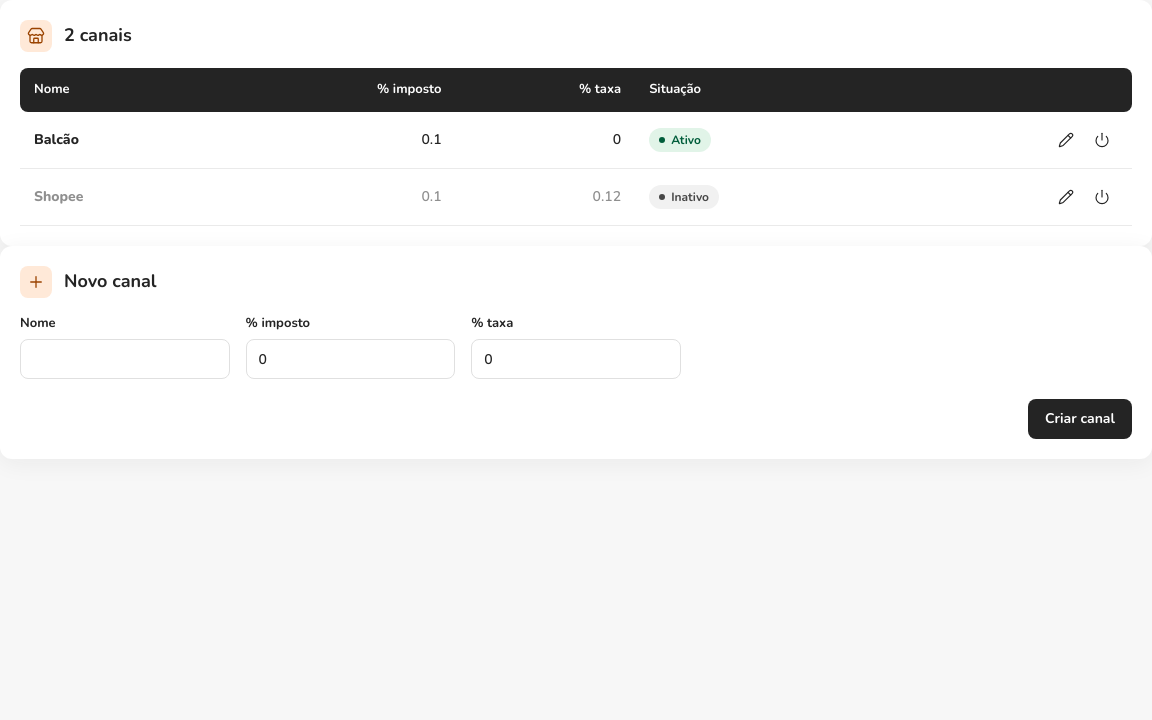
Test: Sales channels page › admin creates and toggles a channel without reloading
Expected: the text "Balcão" is shown, [20,112,218,168]
Type "Loja física" into the field labelled "Nome".
click(125, 359); type("Loja física")  # box [20,339,230,379]
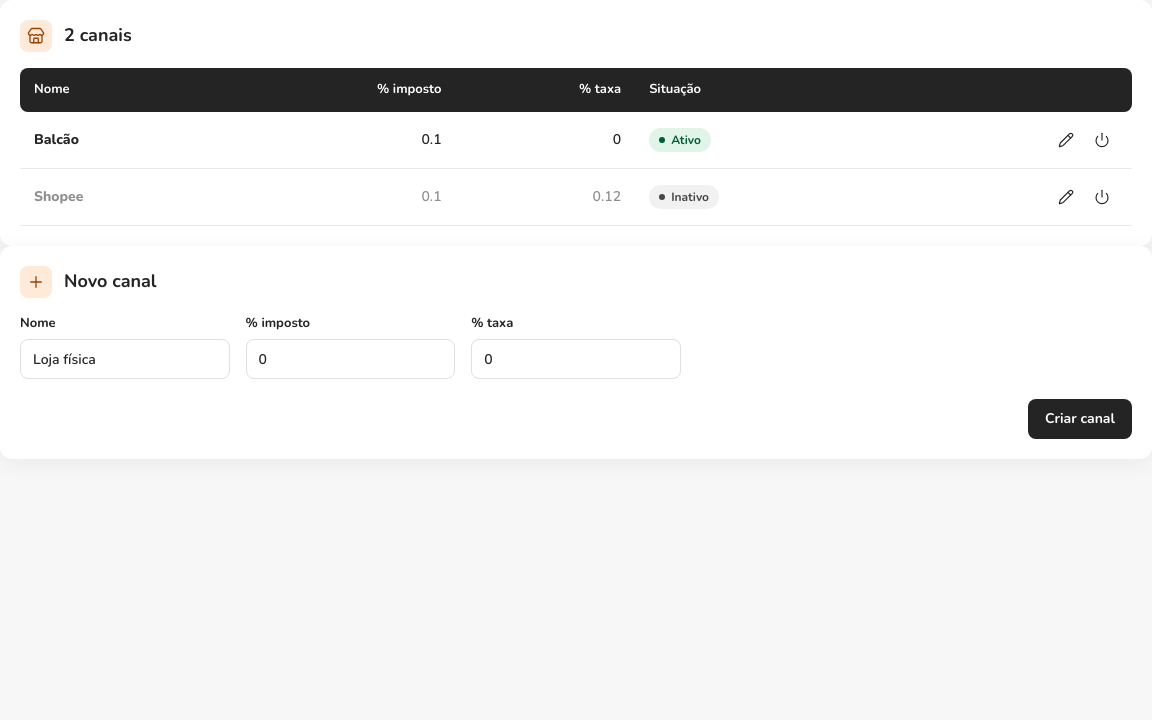
Replace the text in the field labelled "% imposto" with "0.05" at (350, 359), box [246,339,455,379]
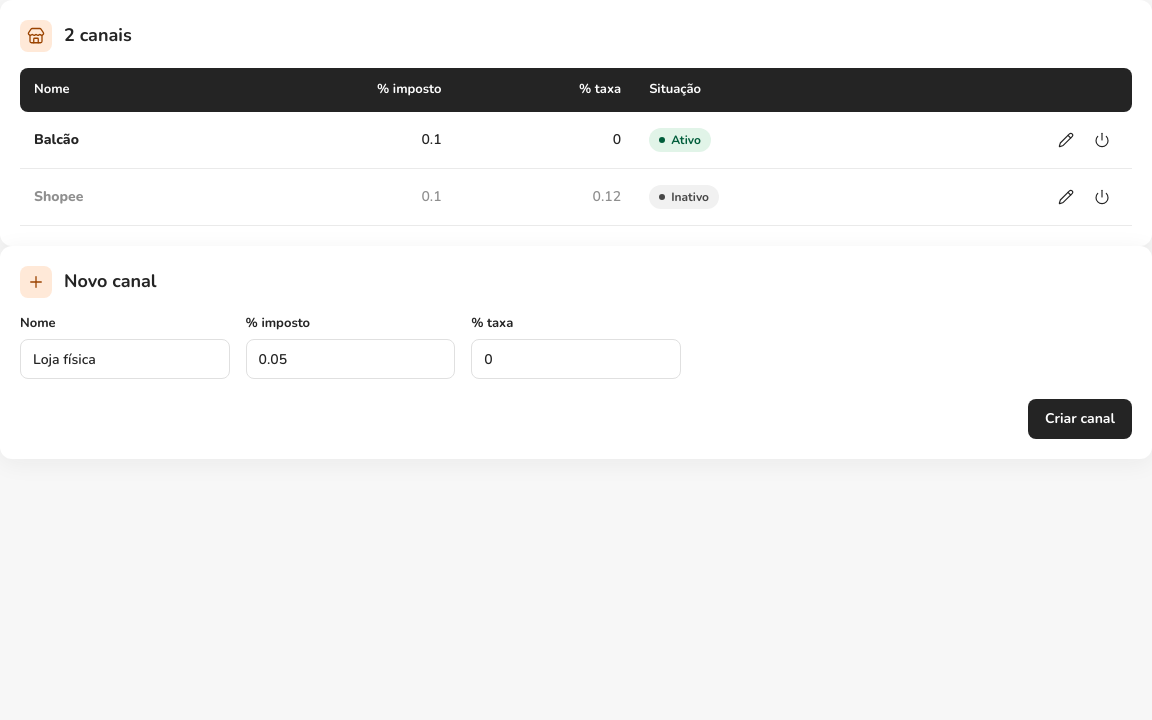
Replace the text in the field labelled "% taxa" with "0.01" at (576, 359), box [471,339,681,379]
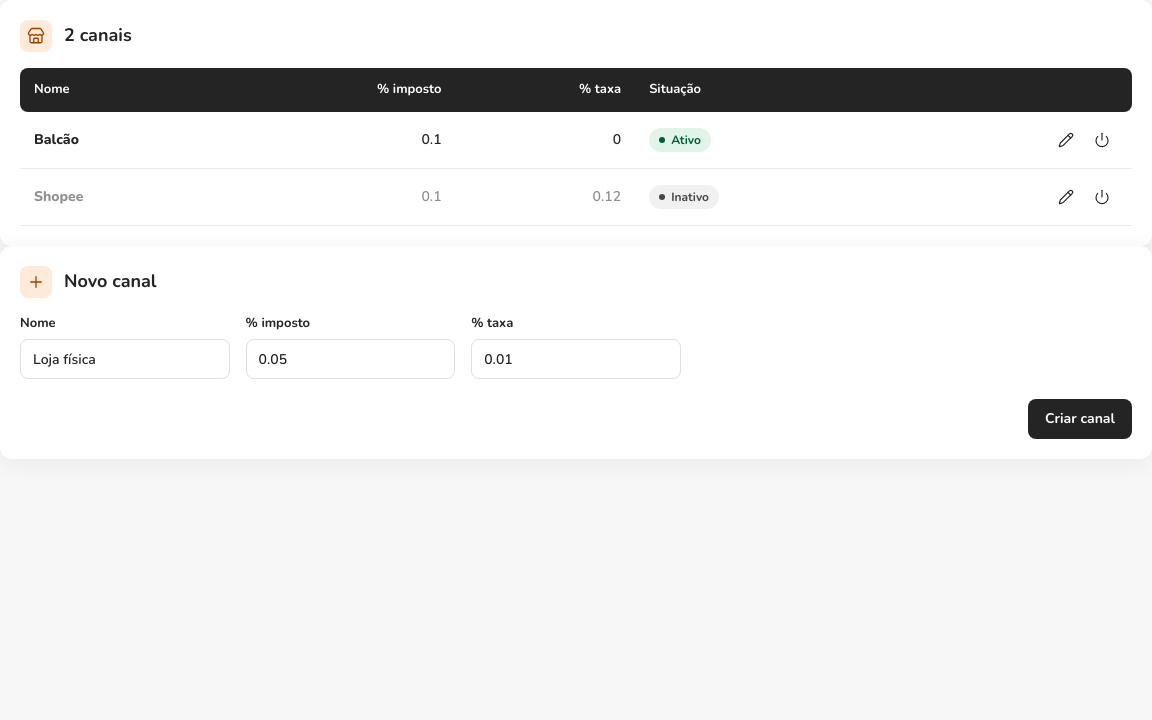
Click the button "Criar canal".
click(1080, 419)  # box [1028,399,1132,439]
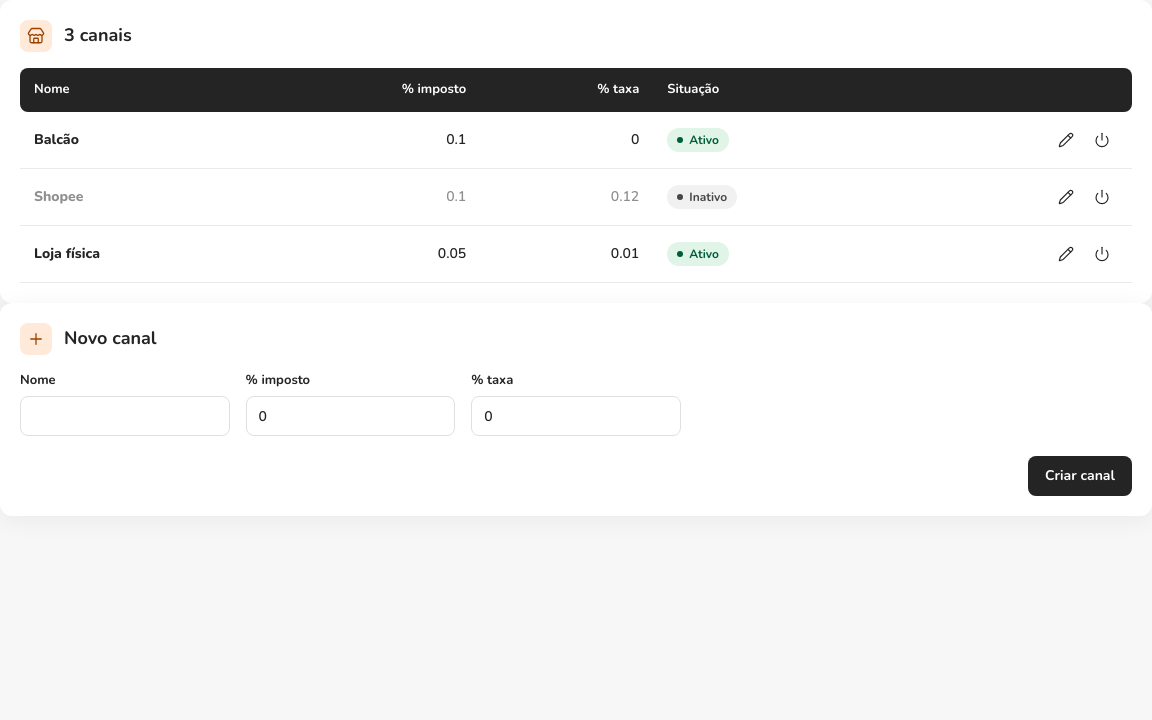
Expected: the text "Loja física" is shown, [20,226,252,282]
Click the button named "Desativar" in the row of "Balcão".
click(1102, 140)  # box [1086,124,1118,156]
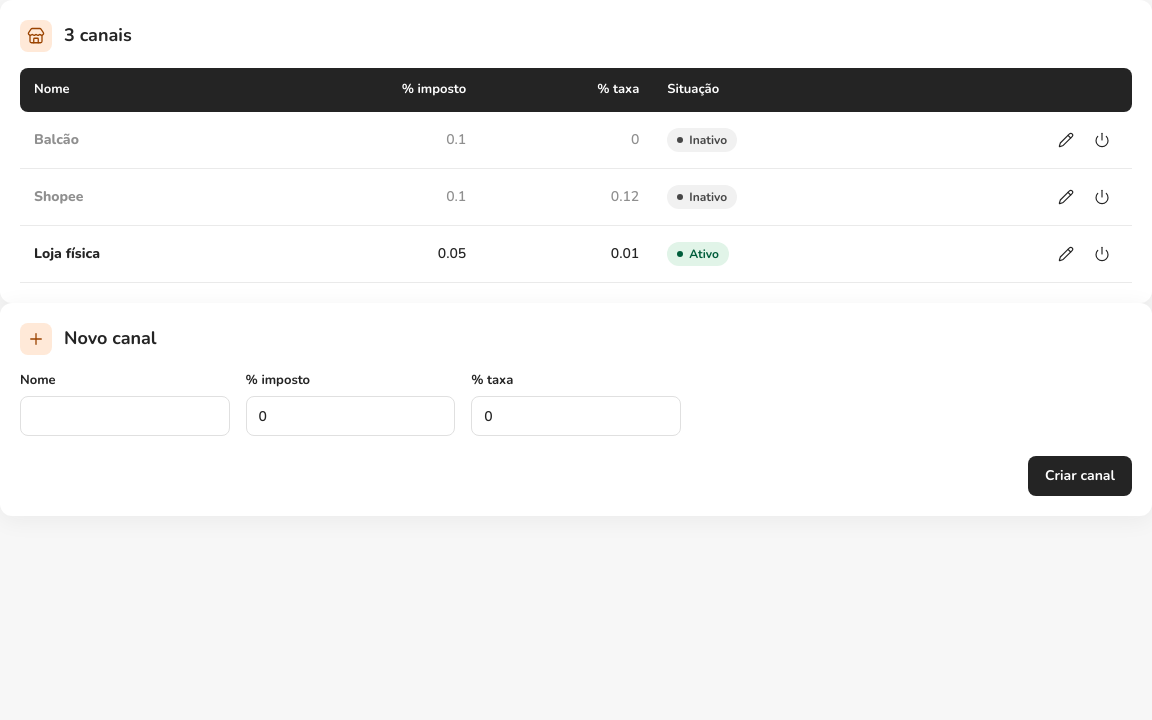
Expected: the text "Inativo" is shown, [667,128,737,152]
